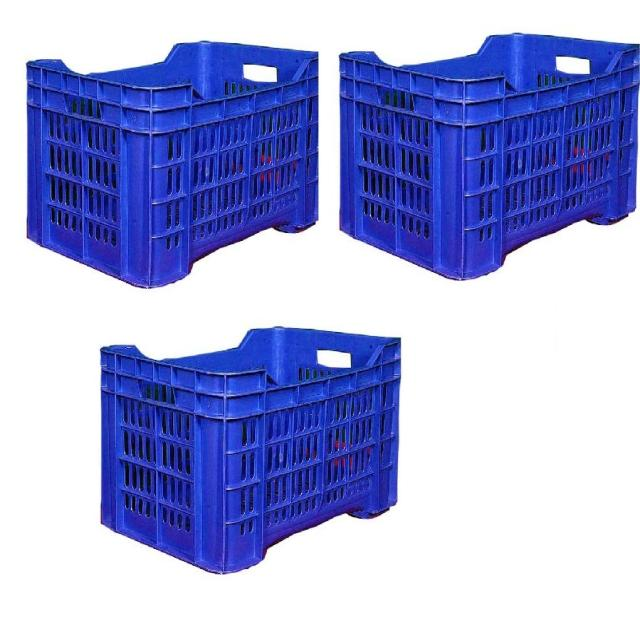basket: (100, 327, 401, 573), (341, 33, 640, 279), (26, 41, 318, 287)
